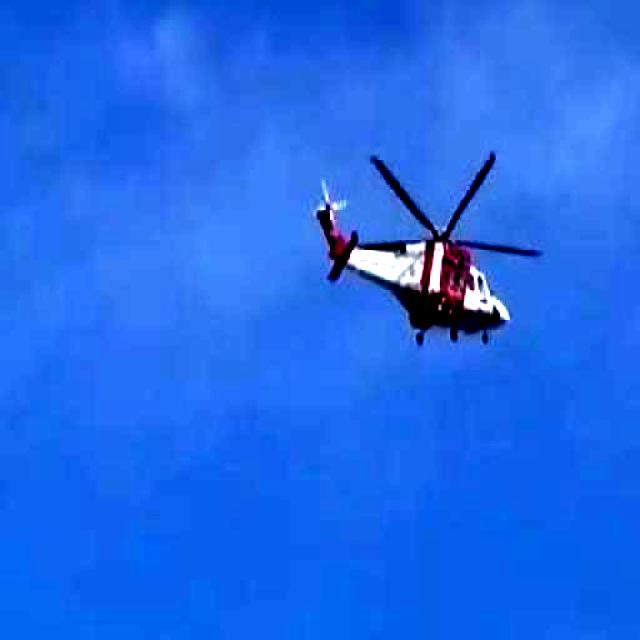drone: (274, 66, 620, 416)
